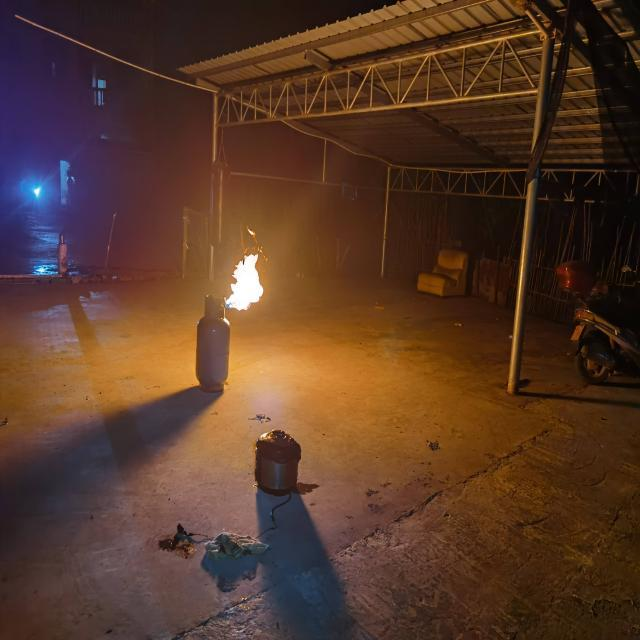Fire: (224, 248, 264, 312)
